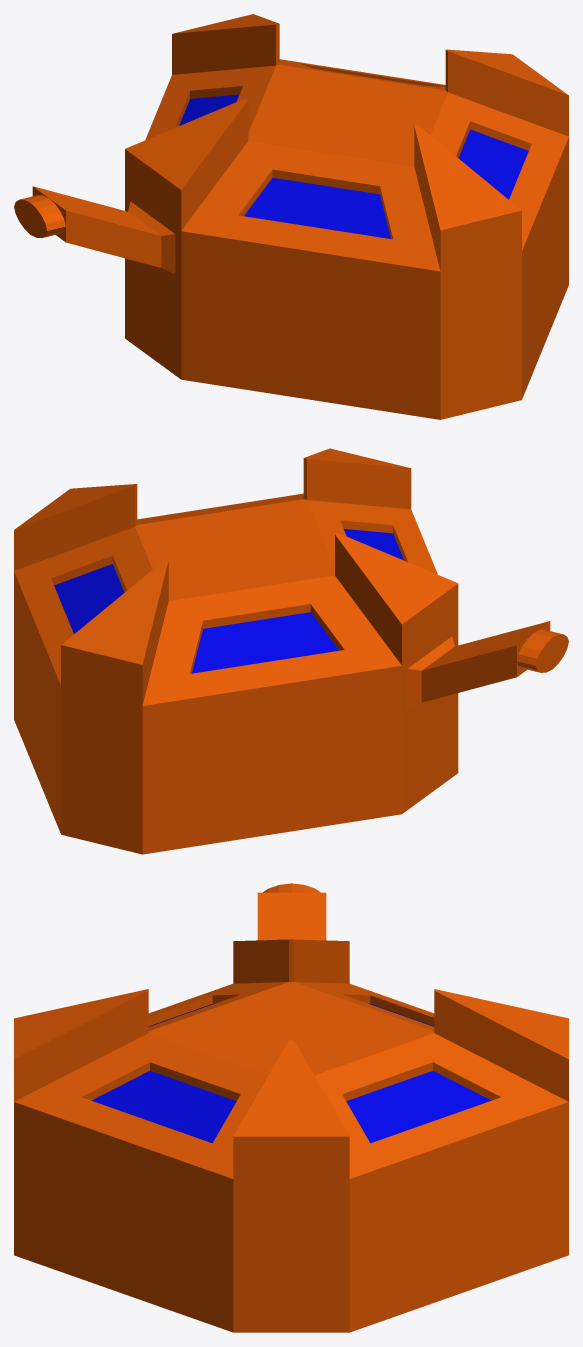
The model's file is station.fbx.
The picture shows the model from 3 angles, top to bottom: view 1: azimuth 30°, elevation 25°; view 2: azimuth 150°, elevation 25°; view 3: azimuth 270°, elevation 25°; orthographic projection. The views are drawn at different scales.
Visible parts, largest first — view 1: Cube; view 2: Cube; view 3: Cube.
Boxes of the visible parts, bbox=[...] form: Cube: bbox=[14, 14, 568, 419]; Cube: bbox=[14, 448, 568, 854]; Cube: bbox=[14, 883, 568, 1332].
Size of the model in its own units: 10968 by 4872 by 10002.
